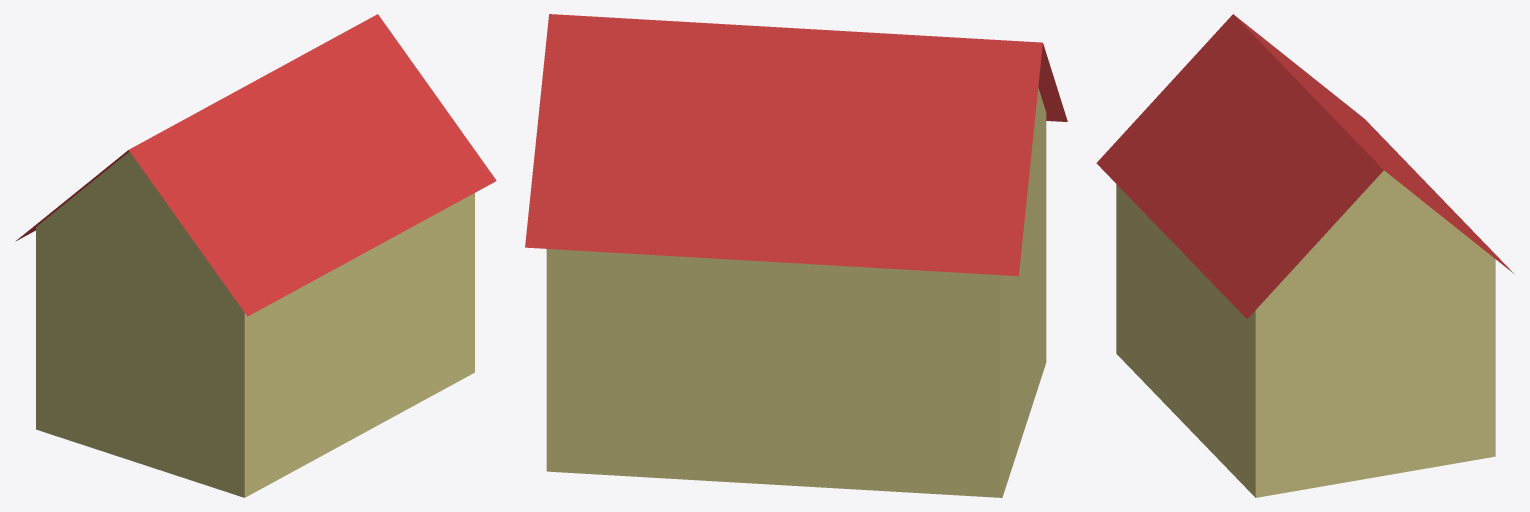
3 renders of one model, left to right at view 1: azimuth 30°, elevation 25°; view 2: azimuth 150°, elevation 25°; view 3: azimuth 270°, elevation 25°, orthographic. The views are drawn at different scales.
Bounding box in the file's own units: 23.34 × 20.42 × 16.8.
